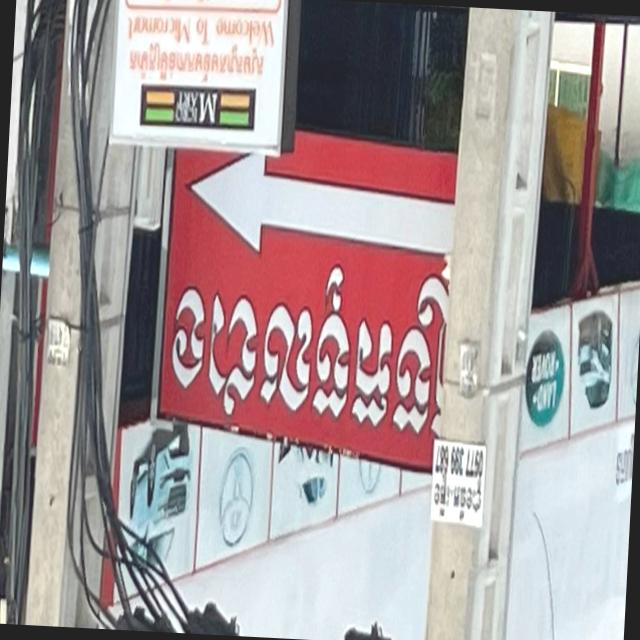Yolov11kh: (166, 245, 449, 439), (127, 42, 265, 90)
